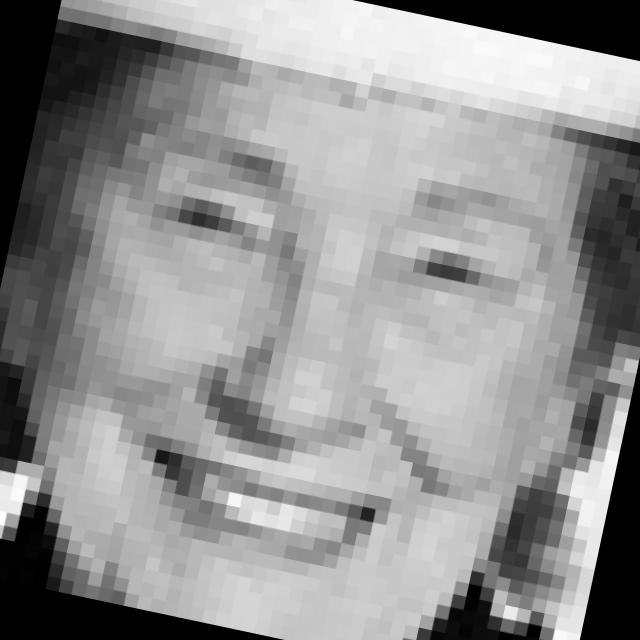happy: (56, 109, 565, 614)
